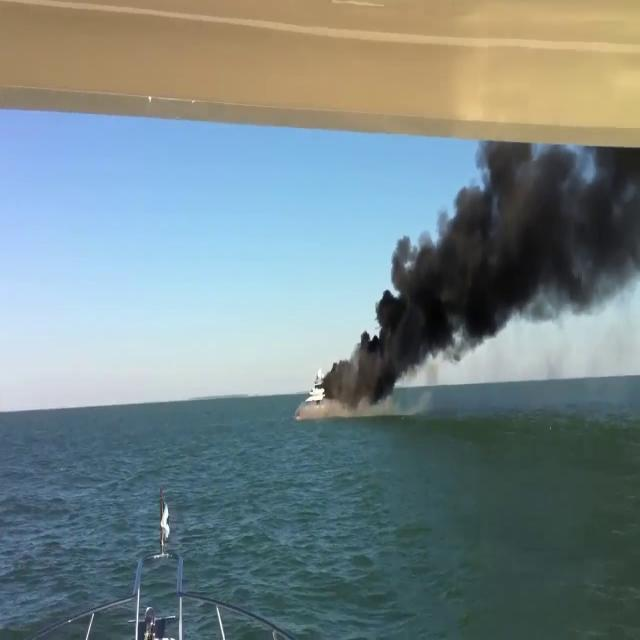Smoke: (318, 139, 640, 417)
